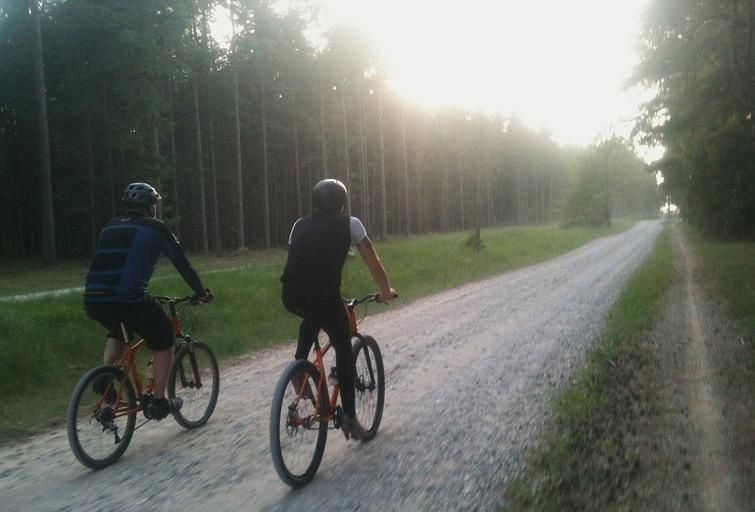non-vehicle: (66, 288, 219, 469), (268, 288, 398, 488)
